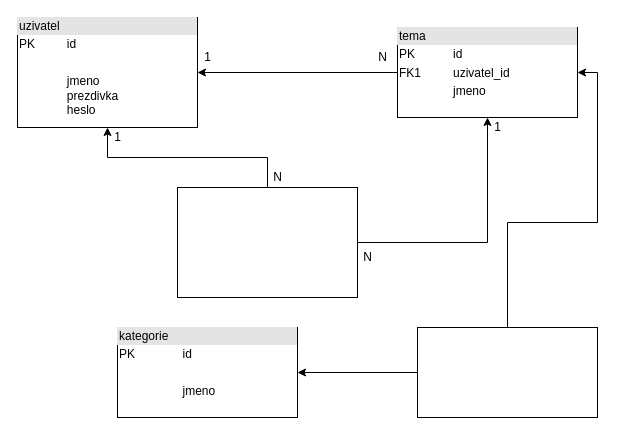
Some shapes in this 623 by 435 pixel diagram are drawn without their labels. The shapes that lost their labels are listed below. From the top down, each one's centre as x and y in pixels, then its label:
(x=267, y=242): zprava PK id FK1,FK2 uzivatel_id tema_id datum obsah
(x=507, y=372): tema_kategorie PK, FK1, FK2 tema_id kategorie_id
